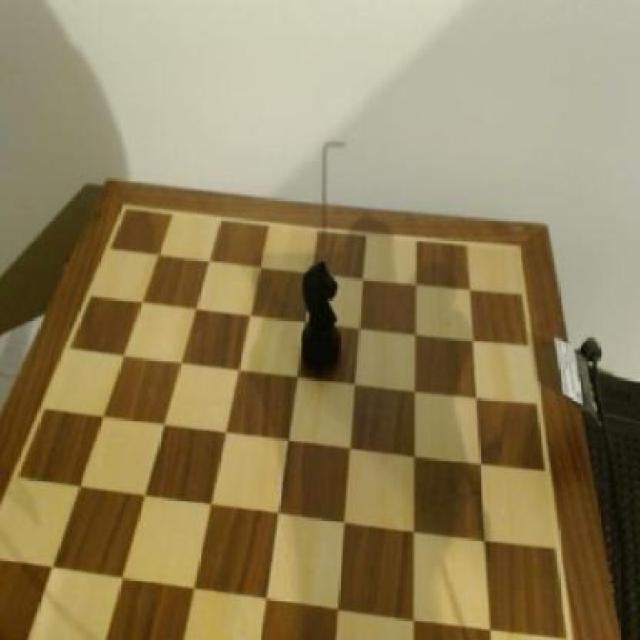black-king: (289, 258, 351, 382)
